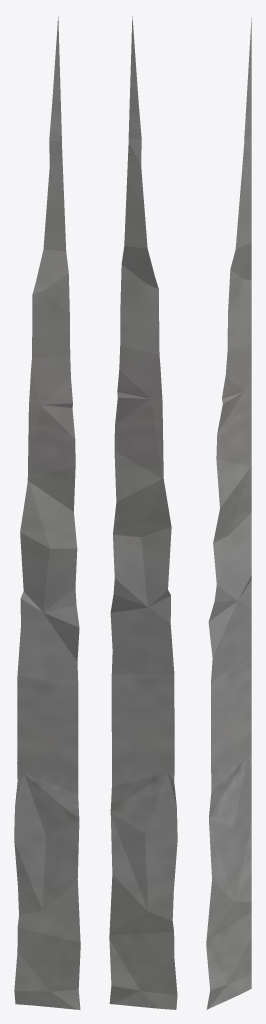
3 renders of one model, left to right at view 1: azimuth 30°, elevation 25°; view 2: azimuth 210°, elevation 25°; view 3: azimuth 270°, elevation 25°, orthographic. The views are drawn at different scales.
Size of the model in its own units: 0.0244 by 0.5203 by 0.0215.
Materials: 1 (1 with a texture image).
